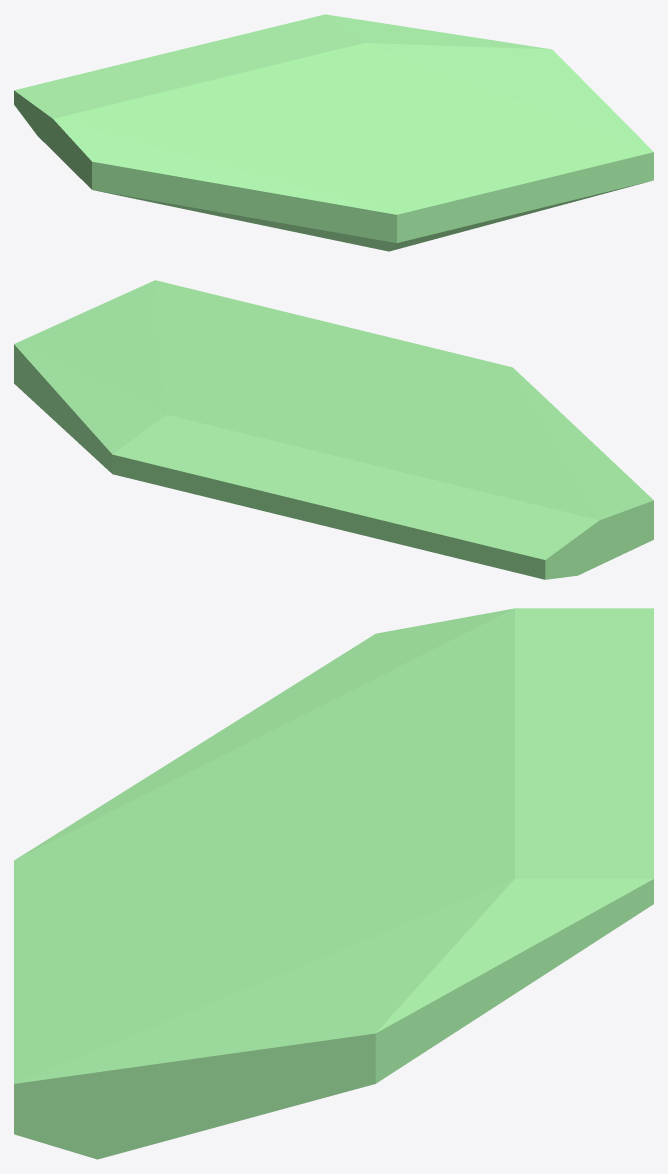
File: rambler_robot_base_coll_50.dae
The picture shows the model from 3 angles, top to bottom: view 1: azimuth 30°, elevation 25°; view 2: azimuth 150°, elevation 25°; view 3: azimuth 270°, elevation 25°; orthographic projection. The views are drawn at different scales.
Visible parts, largest first — view 1: Node_0x7fe100285c80; view 2: Node_0x7fe100285c80; view 3: Node_0x7fe100285c80.
Part boxes in pixels (<box>): Node_0x7fe100285c80: <box>14,14,653,251</box>; Node_0x7fe100285c80: <box>14,280,653,579</box>; Node_0x7fe100285c80: <box>14,608,653,1159</box>.
Bounding box in the file's own units: 0.4654 × 0.0821 × 0.3148.
